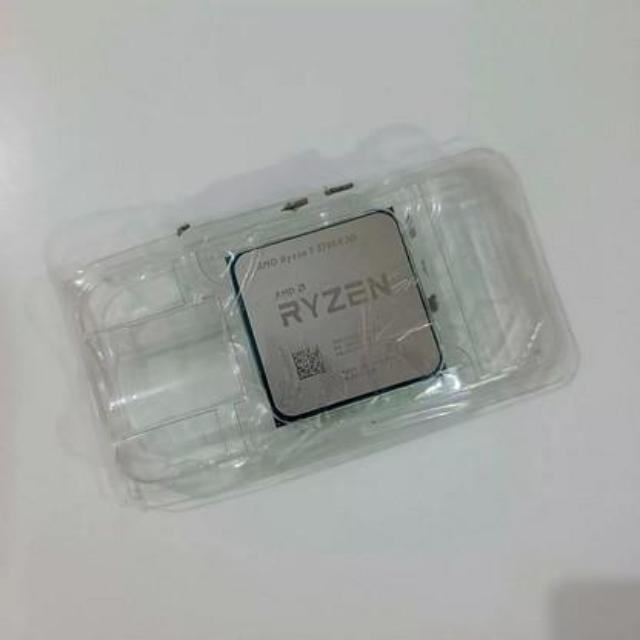CPU: (228, 205, 440, 426)
